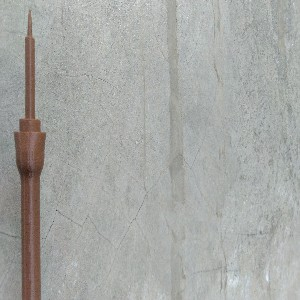solder: (13, 8, 48, 300)
